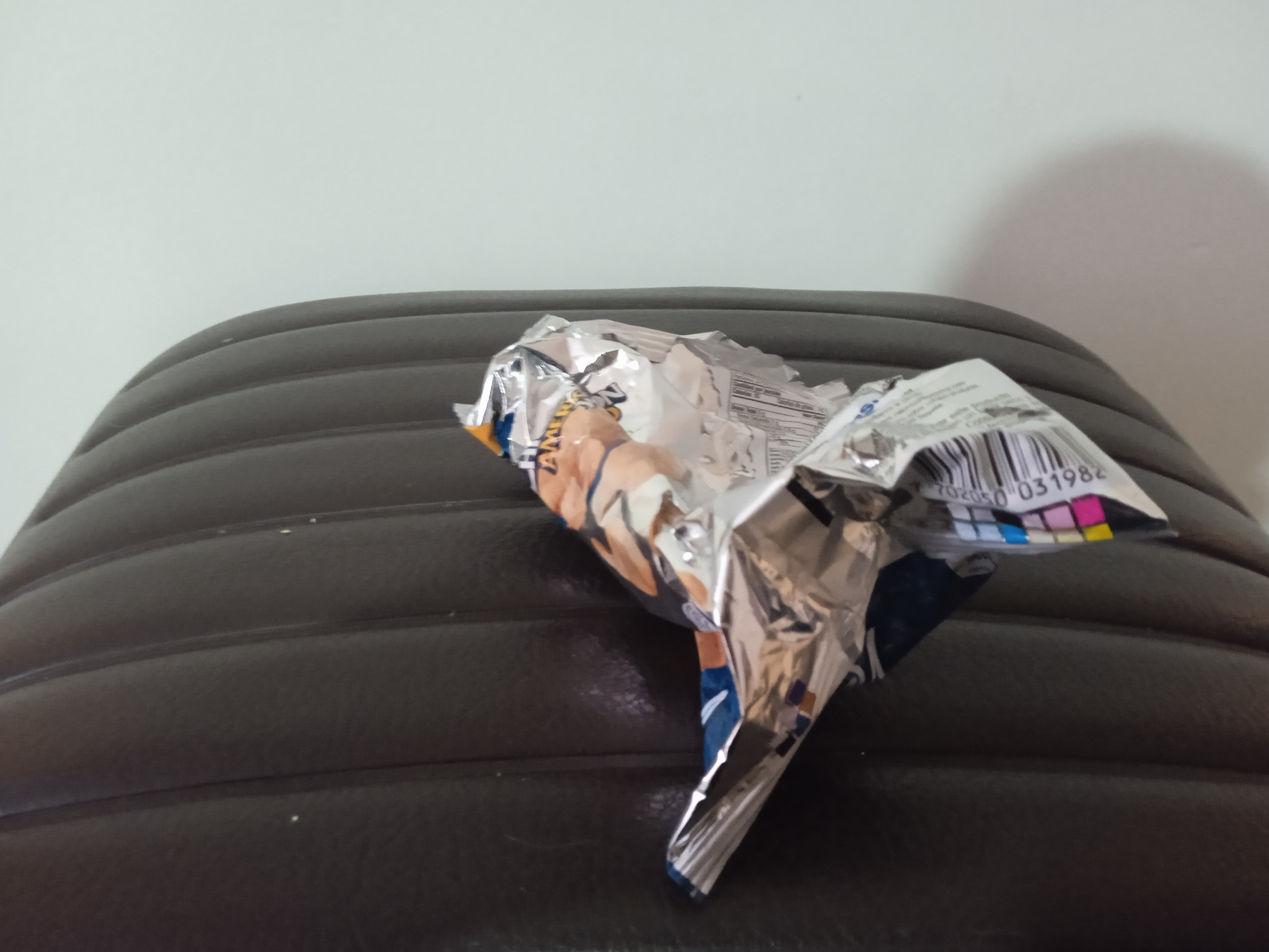plastic: (416, 272, 1224, 952)
